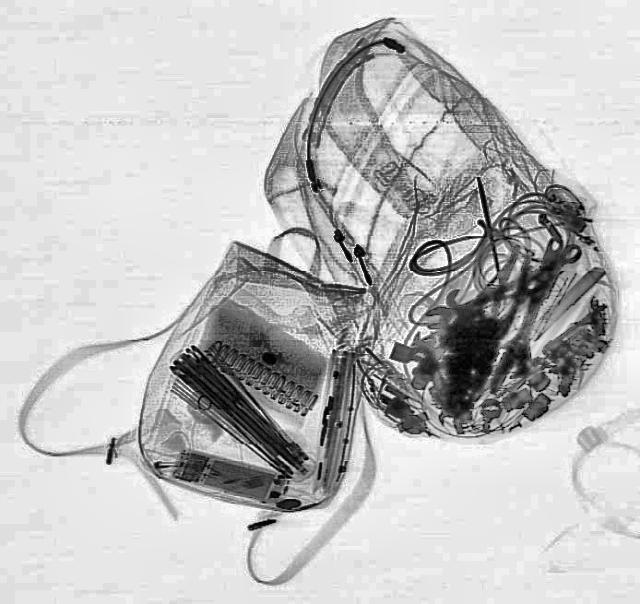Wrench: (418, 240, 586, 331), (486, 233, 572, 398)
